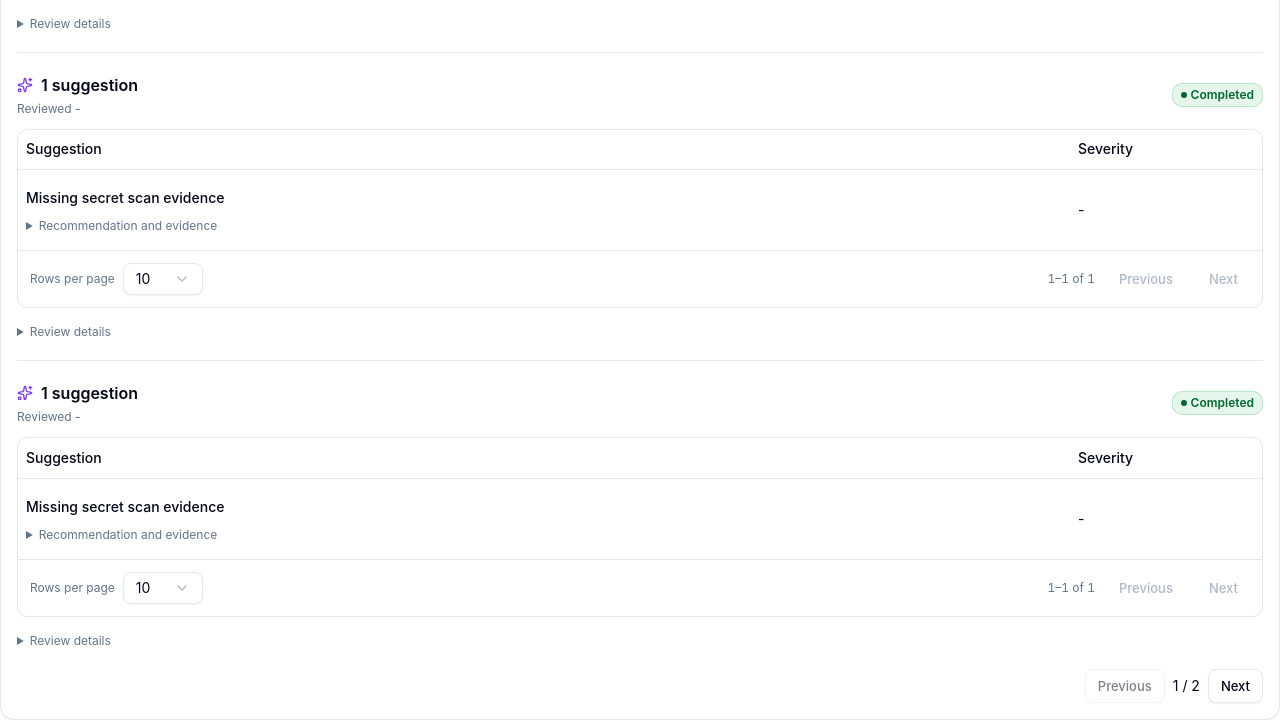
Test: paginates history and hides review requests from viewers
The width and height of the screenshot is (1280, 720).
(page scrolled)
Click the 3rd button "Next": coordinates (1235, 686) top-left (1208, 668), bottom-right (1263, 702)
(page scrolled)
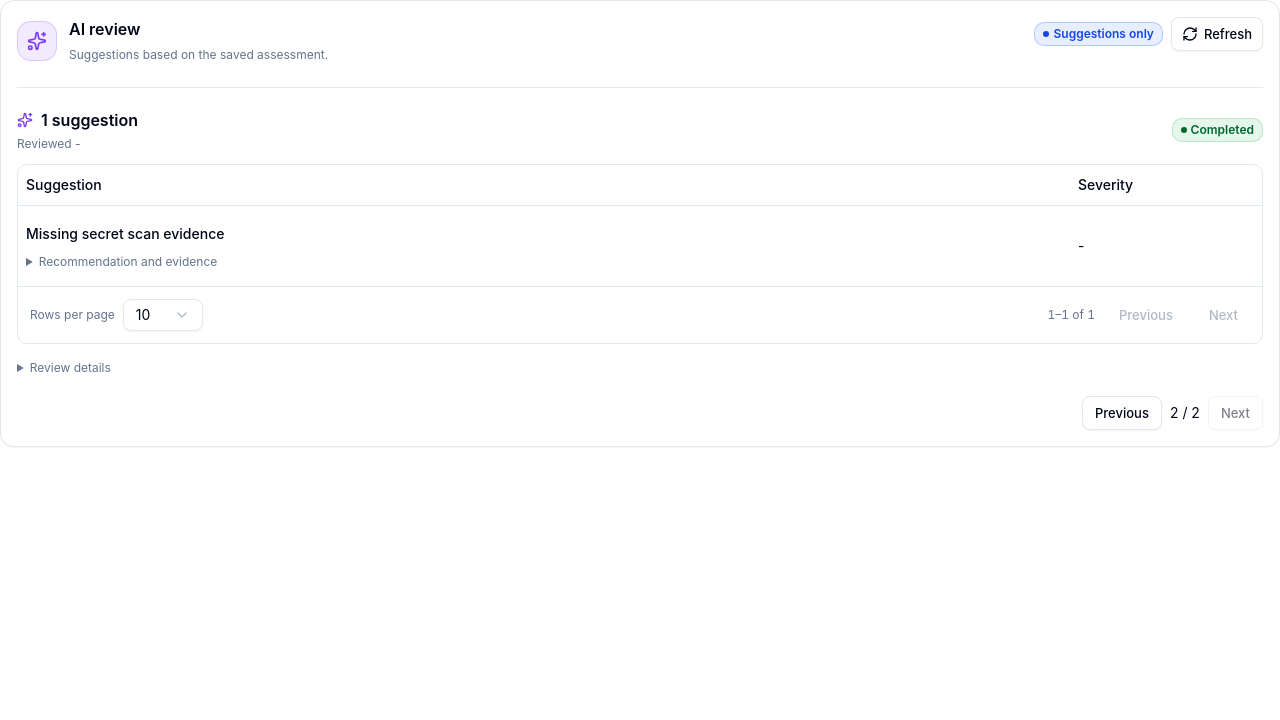
Click the heading "Review details": coordinates (70, 367) top-left (30, 360), bottom-right (111, 374)
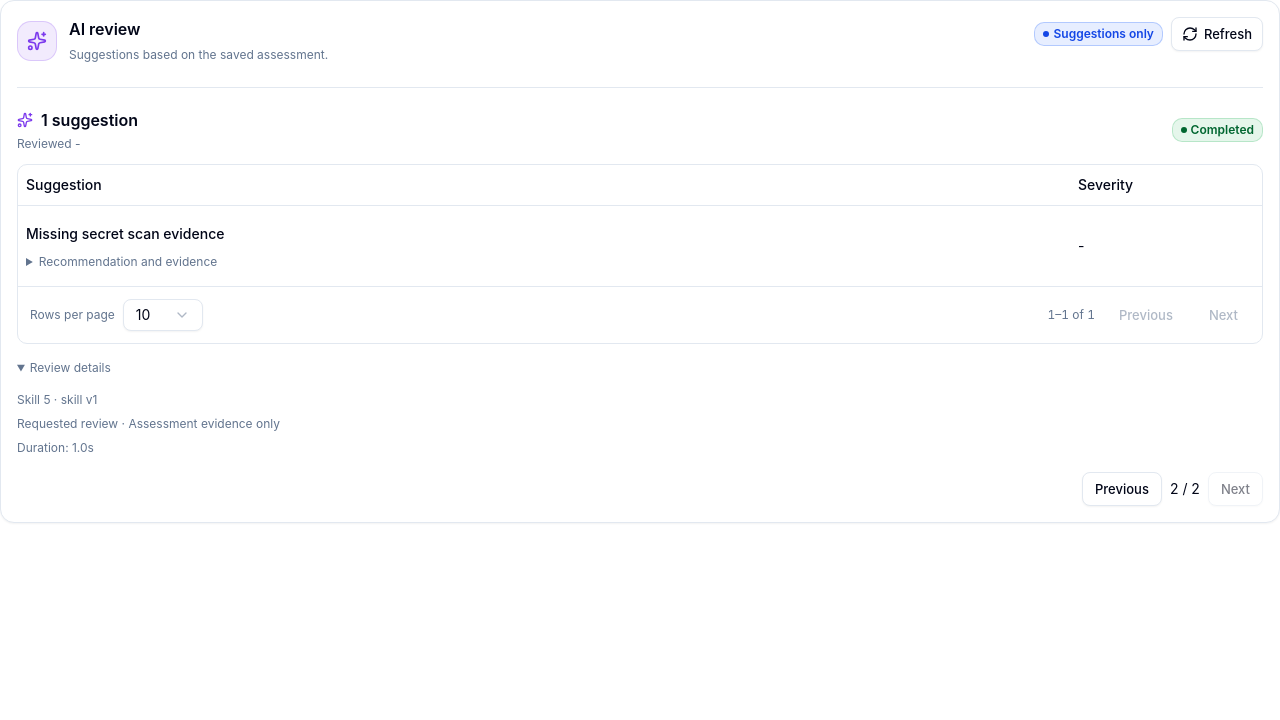
Result: the text "Skill 5 · skill v1" is shown at top-left (17, 392), bottom-right (97, 406)
